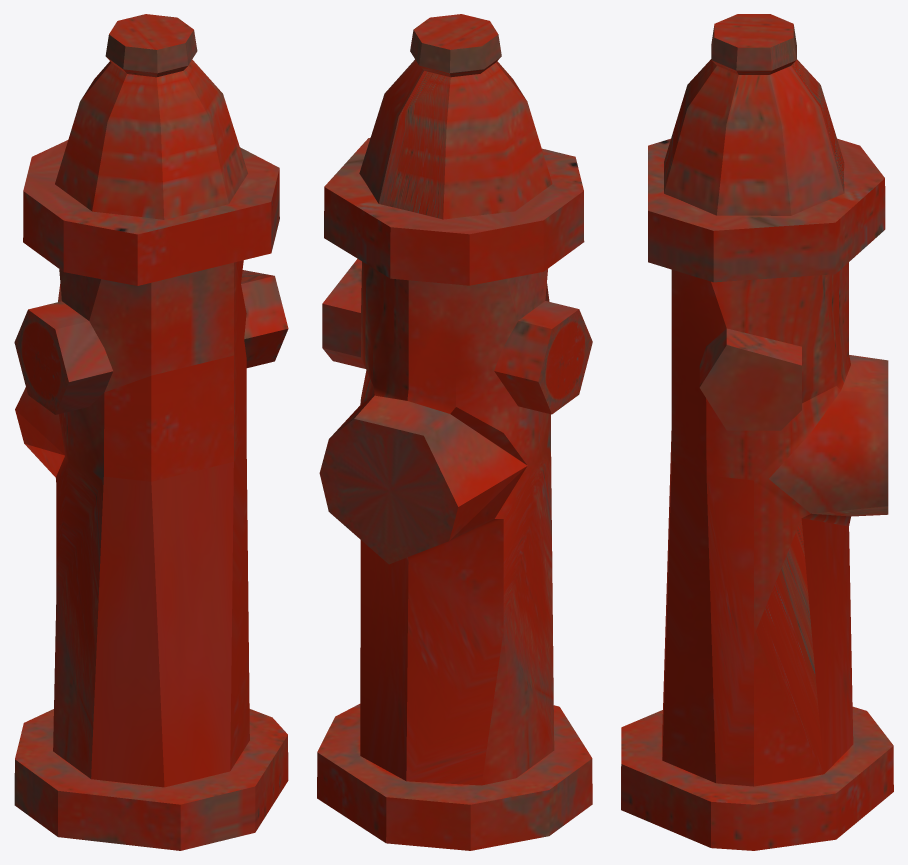
The model's file is fire hydrant.fbx.
3 renders of one model, left to right at view 1: azimuth 30°, elevation 25°; view 2: azimuth 150°, elevation 25°; view 3: azimuth 270°, elevation 25°, orthographic.
Parts seen in each view (by area): view 1: Mesh_0; view 2: Mesh_0; view 3: Mesh_0.
Part boxes in pixels (left/top/right/bottom): Mesh_0: left=14, top=14, right=288, bottom=850; Mesh_0: left=317, top=14, right=592, bottom=850; Mesh_0: left=621, top=14, right=893, bottom=850.
Bounding box in the file's own units: 76.5 × 236 × 76.5.
